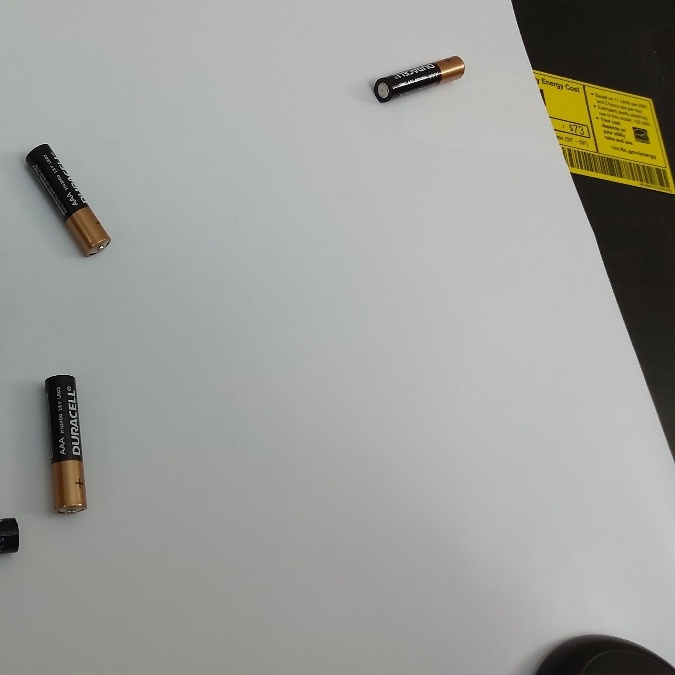battery: (22, 136, 117, 266), (37, 368, 94, 517), (368, 47, 470, 112)
